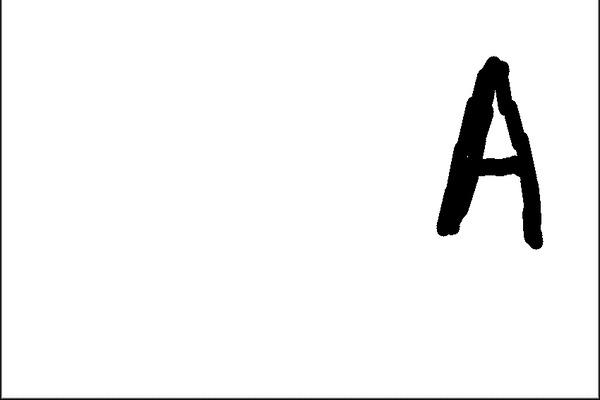A: (426, 48, 549, 255)
